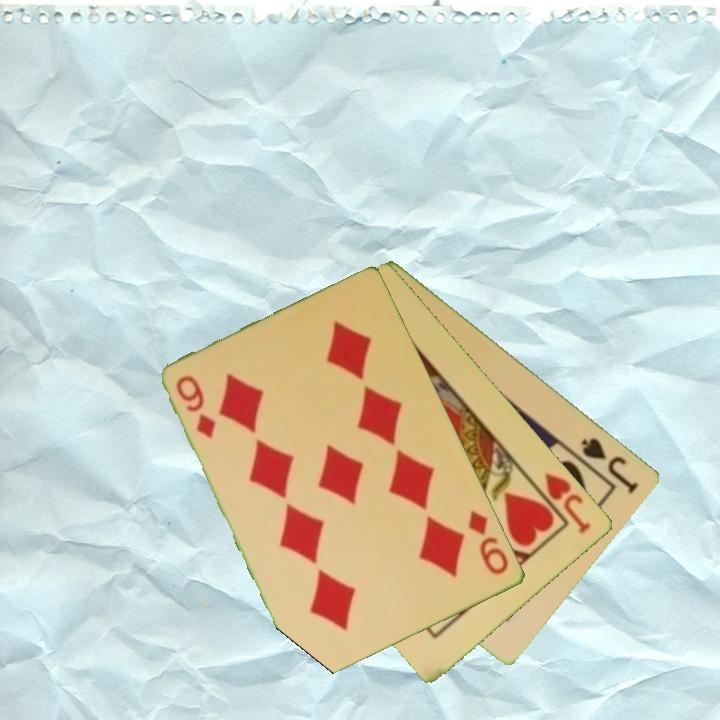9d: (465, 506, 512, 578), (173, 372, 220, 441)
Jh: (527, 469, 594, 537)
Js: (578, 434, 643, 497)
